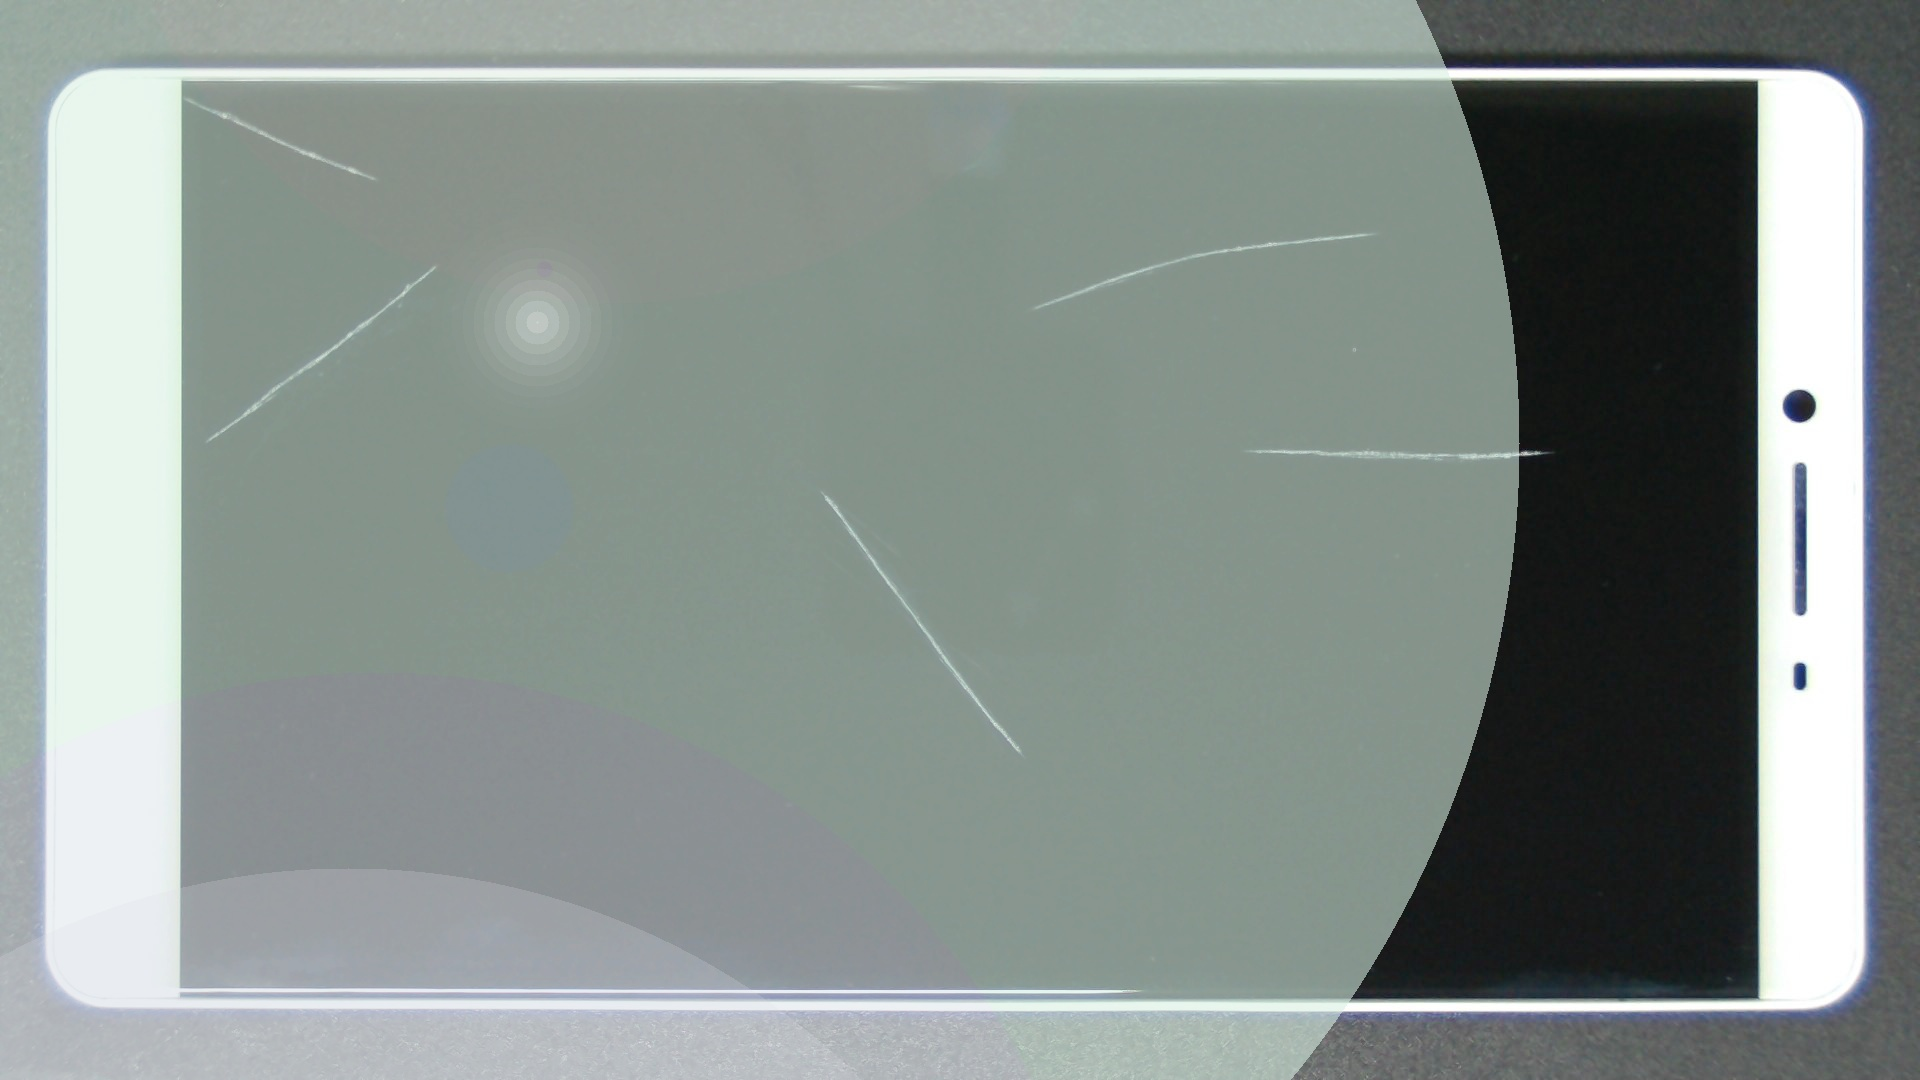oil: (624, 223, 1870, 673), (411, 243, 1229, 733), (684, 115, 1920, 347), (219, 129, 645, 401), (92, 47, 276, 145)
